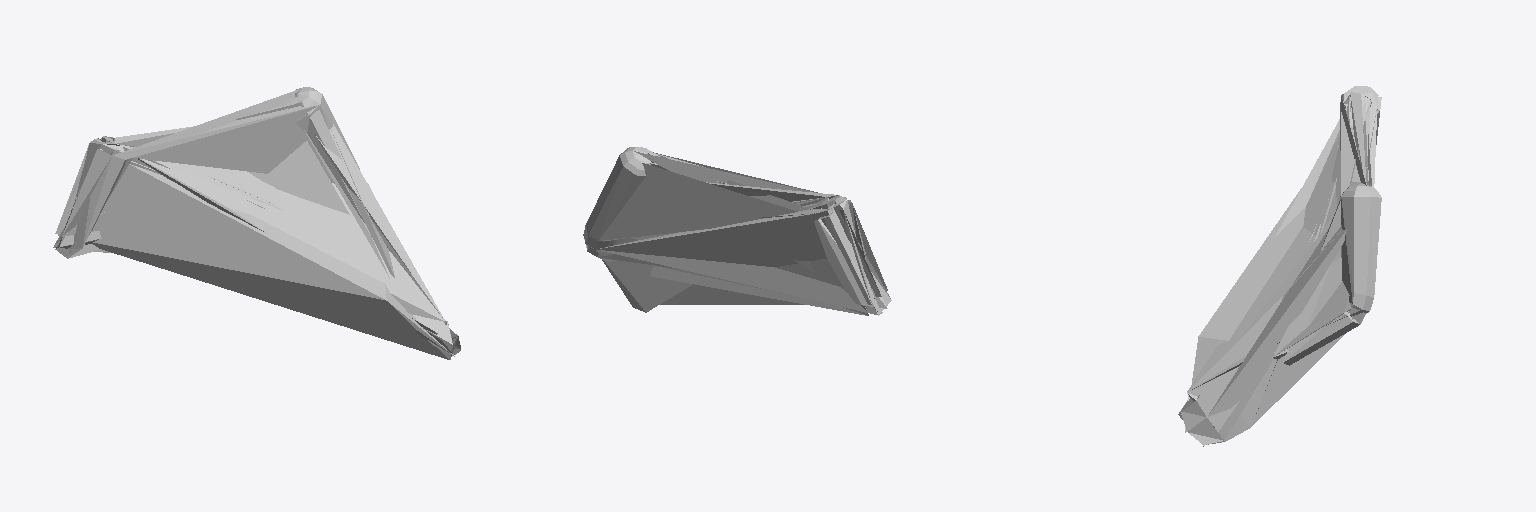
The model's file is Real Ghost.obj.
3 views of the same model, side by side, from view 1: azimuth 30°, elevation 25°; view 2: azimuth 150°, elevation 25°; view 3: azimuth 270°, elevation 25° (orthographic).
Parts seen in each view (by area): view 1: obj9, obj41, obj43; view 2: obj9, obj41, obj43, obj42, obj44; view 3: obj9, obj41, obj42, obj43.
Boxes of the visible parts, x1=… form: obj9: x1=53, y1=88, x2=460, y2=359; obj41: x1=61, y1=94, x2=371, y2=258; obj43: x1=60, y1=95, x2=371, y2=257; obj9: x1=583, y1=148, x2=891, y2=315; obj41: x1=587, y1=155, x2=889, y2=315; obj43: x1=587, y1=156, x2=890, y2=315; obj42: x1=583, y1=147, x2=650, y2=248; obj44: x1=584, y1=147, x2=649, y2=248; obj9: x1=1178, y1=88, x2=1381, y2=446; obj41: x1=1273, y1=86, x2=1381, y2=356; obj42: x1=1340, y1=183, x2=1381, y2=310; obj43: x1=1275, y1=86, x2=1381, y2=355.
Bounding box in the file's own units: 10.92 × 7.43 × 5.97.